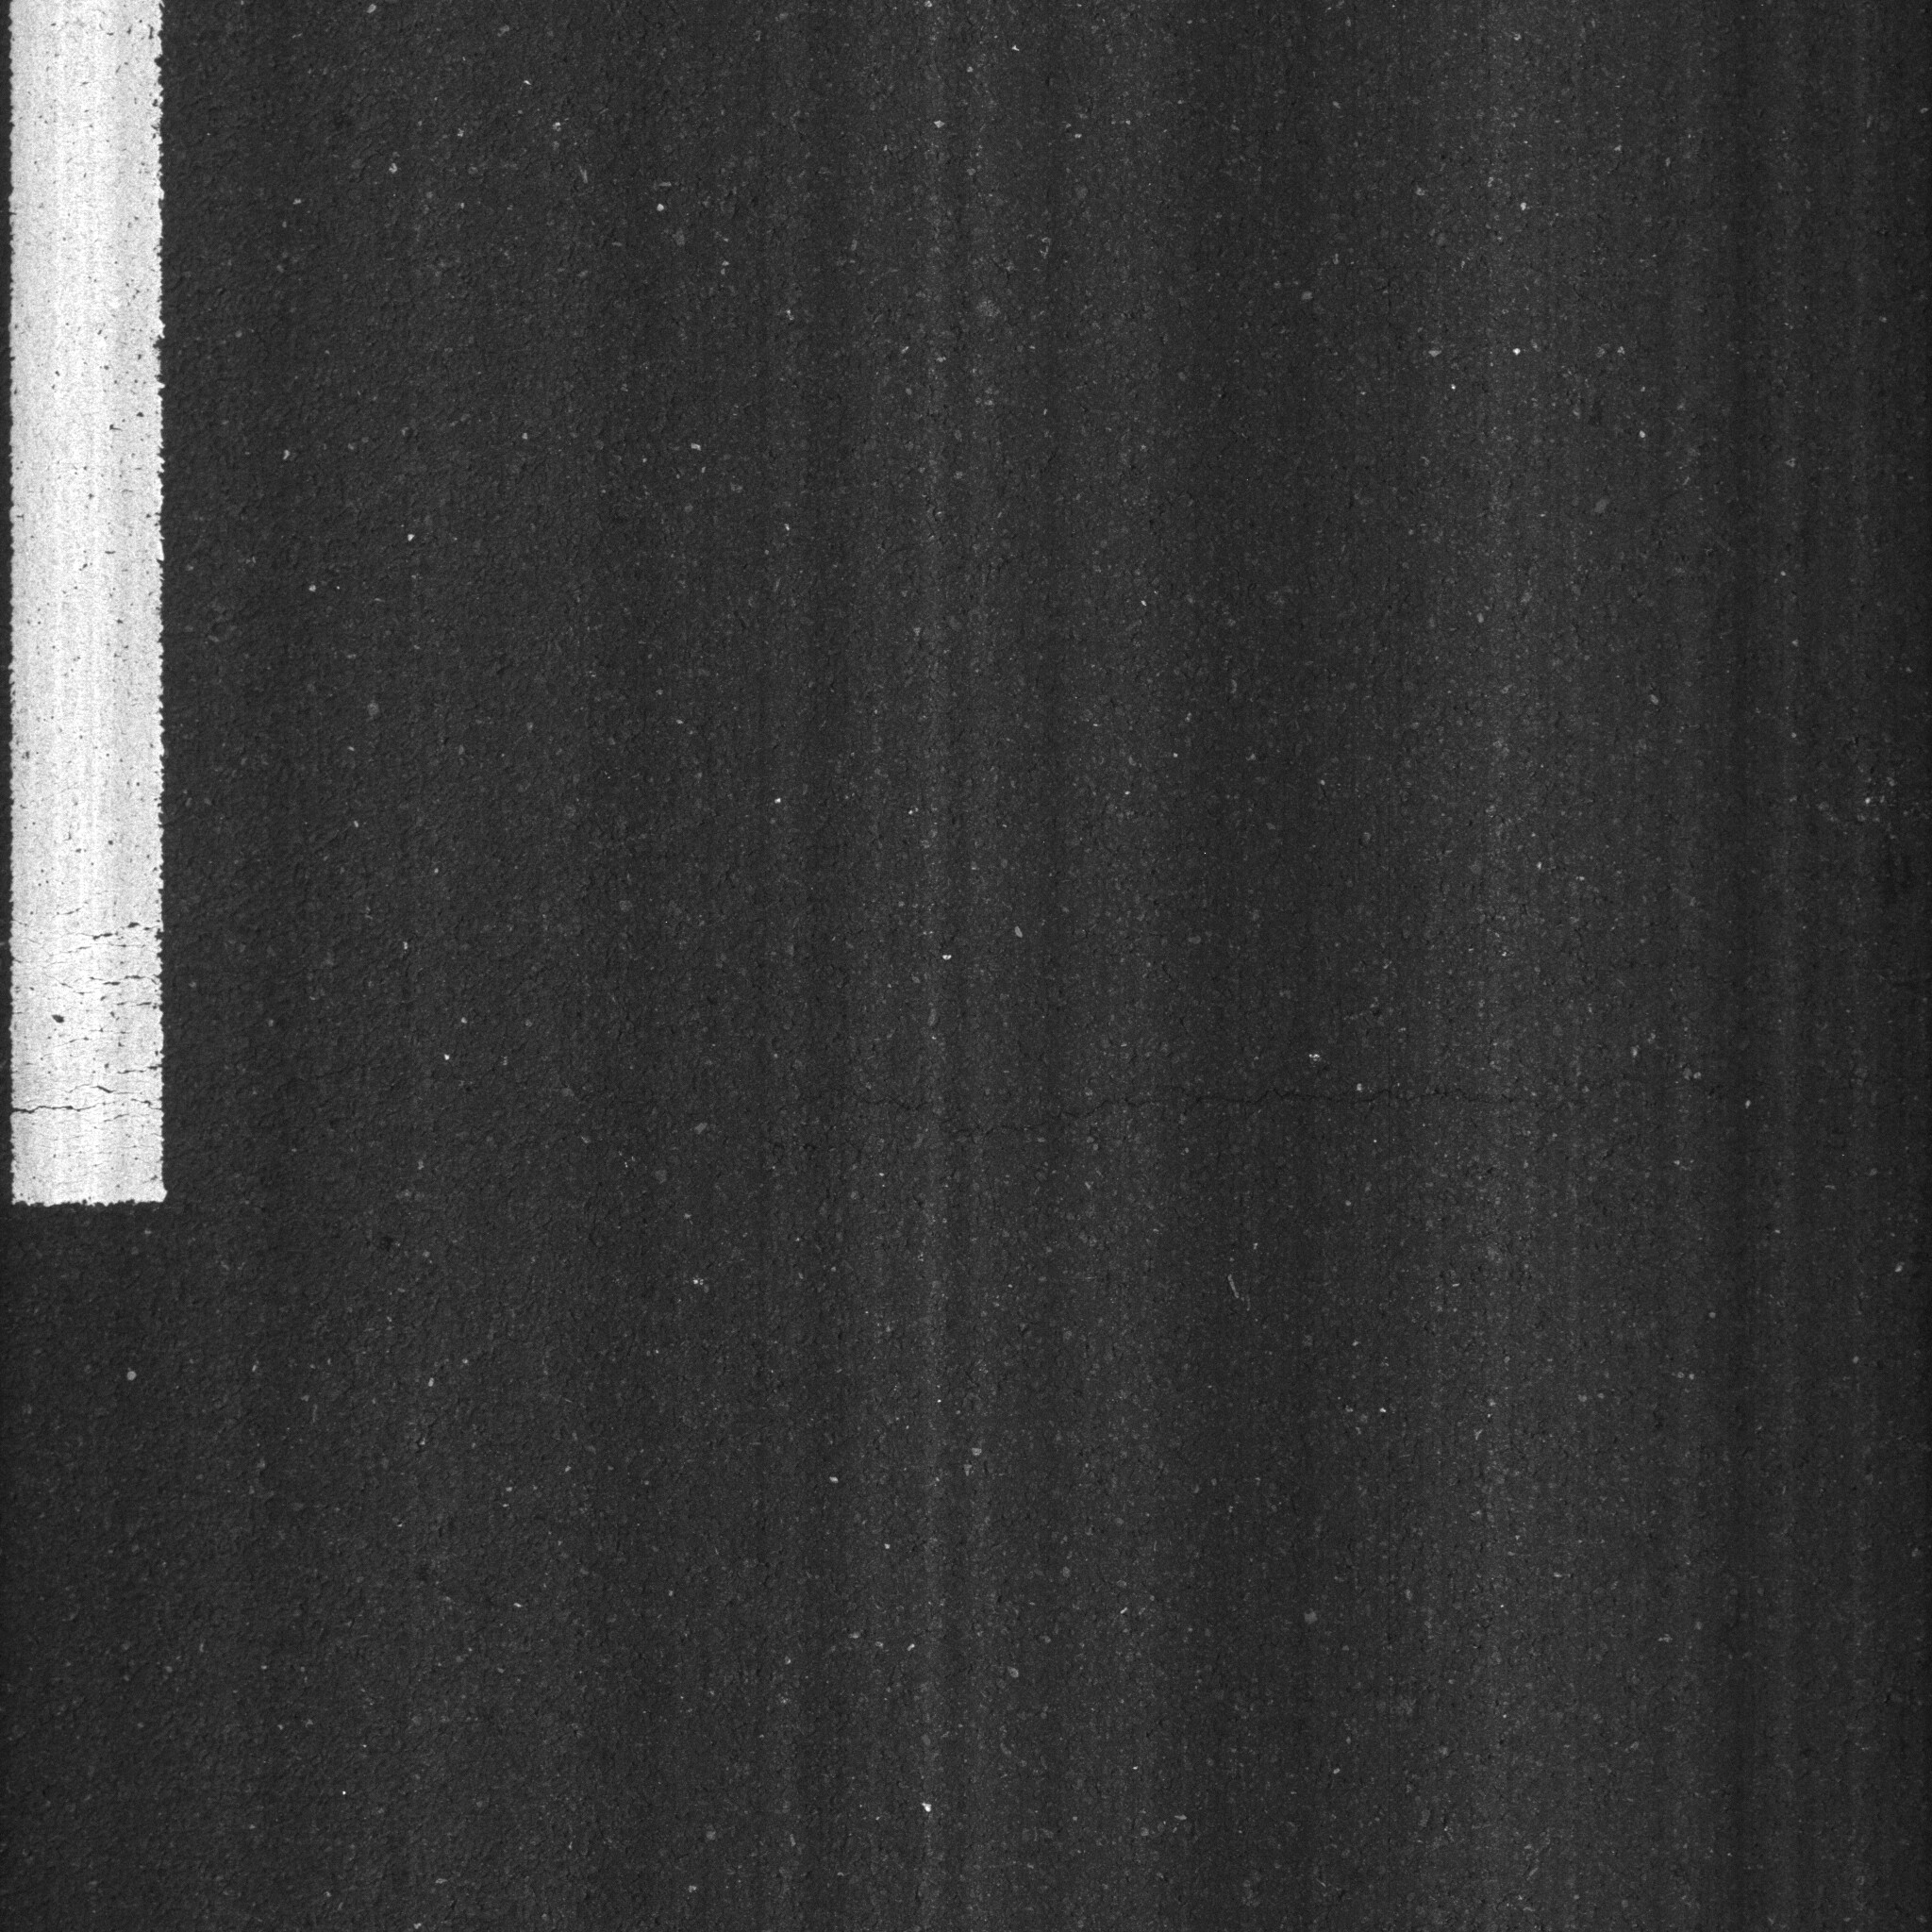transeverse: (805, 1058, 1718, 1173)
